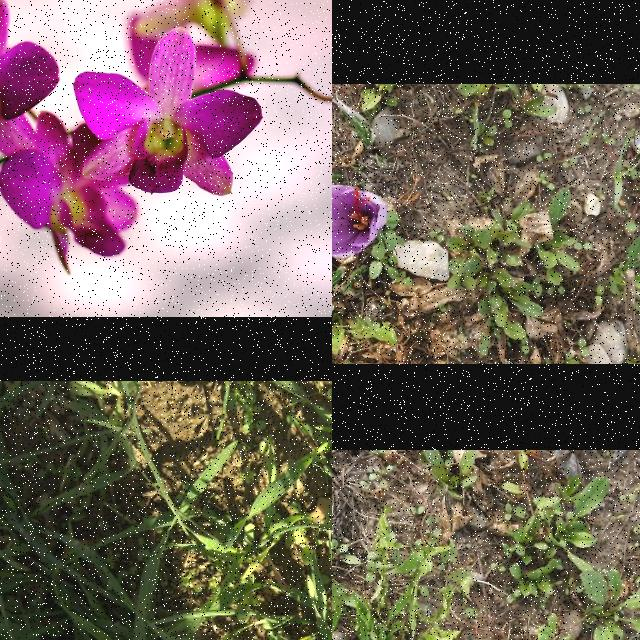flower: (332, 184, 387, 259)
